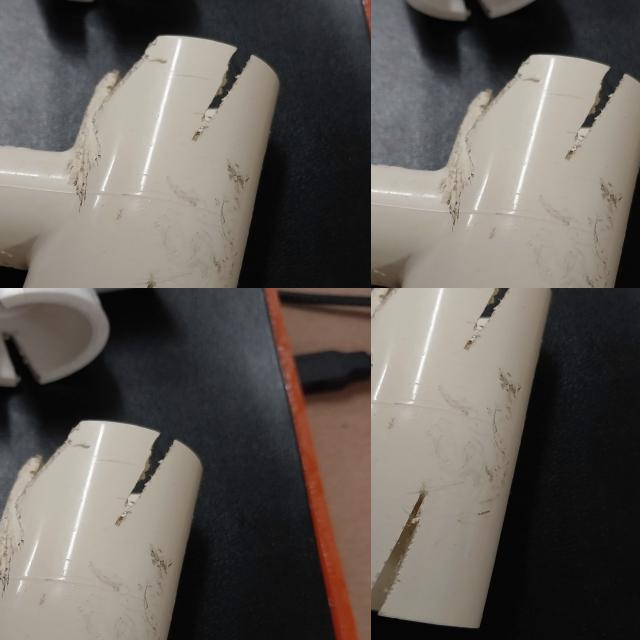Defective: (371, 288, 441, 410), (0, 491, 113, 558), (371, 495, 424, 612), (54, 522, 160, 568), (191, 538, 261, 590), (45, 563, 159, 593), (75, 511, 154, 540), (0, 504, 39, 538), (314, 621, 371, 640), (479, 288, 508, 322)
L Joint: (70, 304, 254, 489)
T Joint: (371, 288, 553, 632), (0, 444, 156, 613), (152, 526, 371, 640)
